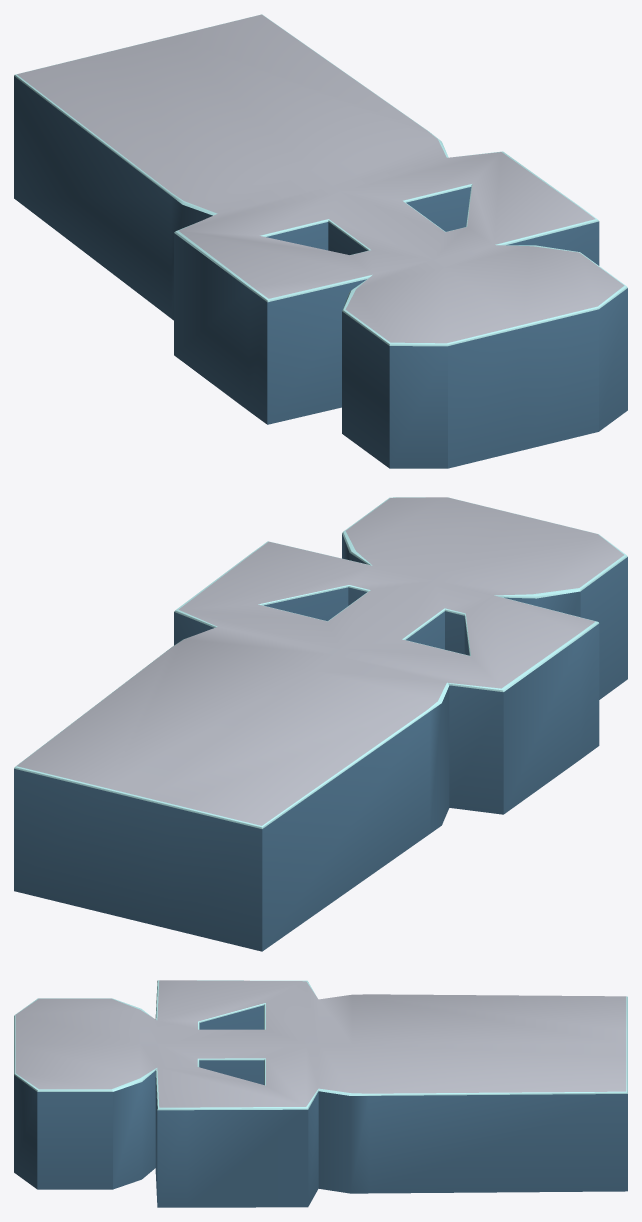
Rendered from Lvl10.fbx.
The picture shows the model from 3 angles, top to bottom: view 1: azimuth 30°, elevation 25°; view 2: azimuth 150°, elevation 25°; view 3: azimuth 270°, elevation 25°; orthographic projection. The views are drawn at different scales.
Visible parts, largest first — view 1: lvl10; view 2: lvl10; view 3: lvl10.
Boxes of the visible parts, x1=… form: lvl10: x1=14, y1=14, x2=627, y2=468; lvl10: x1=14, y1=497, x2=627, y2=951; lvl10: x1=14, y1=980, x2=627, y2=1207.
Size of the model in its own units: 3964 by 1421 by 7971.
